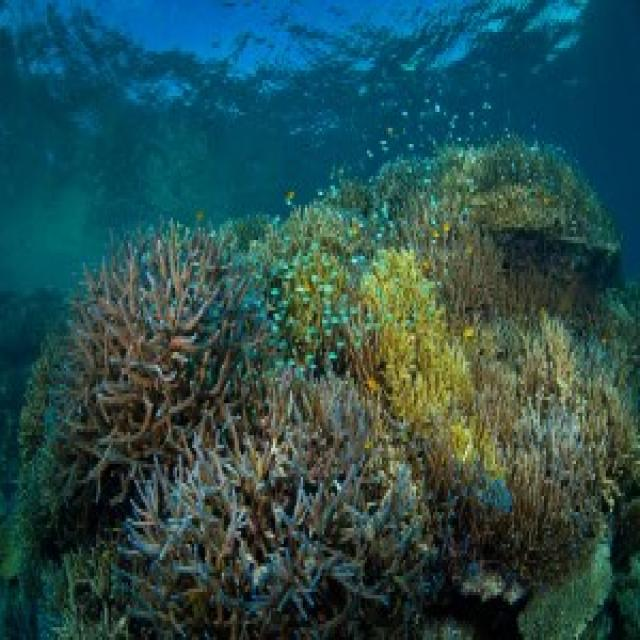Healthy: (120, 382, 423, 638), (65, 225, 291, 503), (180, 379, 368, 635), (325, 145, 618, 247), (479, 321, 615, 539), (362, 251, 475, 484), (364, 251, 470, 417), (270, 209, 370, 366), (438, 231, 588, 311)
